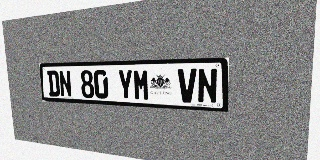0: (93, 70, 108, 99)
8: (80, 70, 95, 98)
D: (47, 70, 60, 97)
M: (133, 69, 150, 101)
N: (197, 68, 218, 104), (59, 70, 72, 97)
V: (178, 68, 197, 103)
Y: (117, 69, 134, 100)
